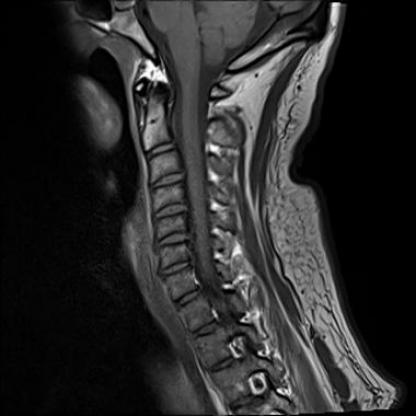Disc Herniationrotation: (148, 172, 187, 191), (153, 231, 192, 248), (150, 203, 191, 219), (159, 260, 193, 275)
Osteophytesrotation: (148, 172, 187, 191), (153, 231, 192, 249), (150, 203, 191, 219), (159, 260, 193, 275)
